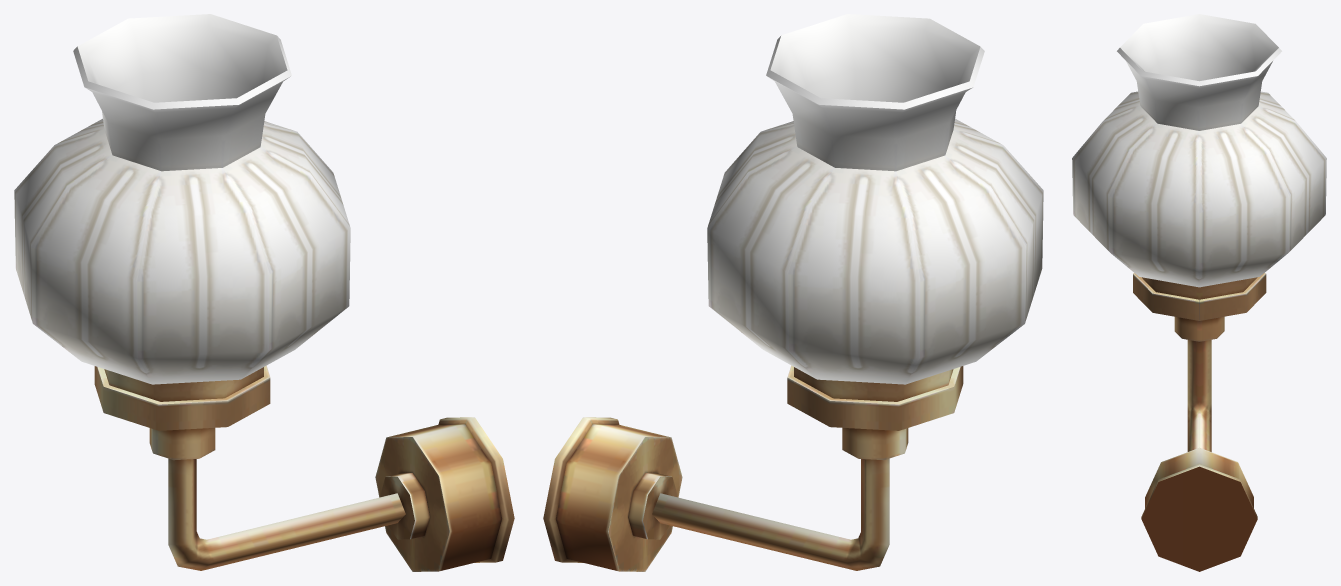
Rendered from my_sunshineresort_01_lamp_01.glb.
The picture shows the model from 3 angles, left to right: view 1: azimuth 30°, elevation 25°; view 2: azimuth 150°, elevation 25°; view 3: azimuth 270°, elevation 25°; orthographic projection. The views are drawn at different scales.
Visible parts, largest first — view 1: my_sunshineresort_01_lamp_01; view 2: my_sunshineresort_01_lamp_01; view 3: my_sunshineresort_01_lamp_01.
Boxes of the visible parts, x1,y1,x2,y2 form: my_sunshineresort_01_lamp_01: (14, 14, 514, 571); my_sunshineresort_01_lamp_01: (543, 14, 1043, 571); my_sunshineresort_01_lamp_01: (1072, 14, 1326, 571).
Bounding box in the file's own units: 0.00357 × 0.00442 × 0.00243.
3 materials, 3 textured.
